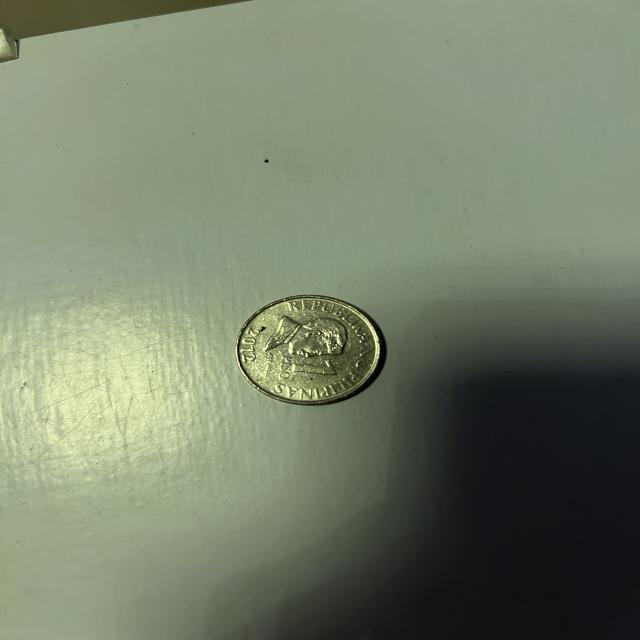1_Old_Front: (278, 350, 340, 387)
